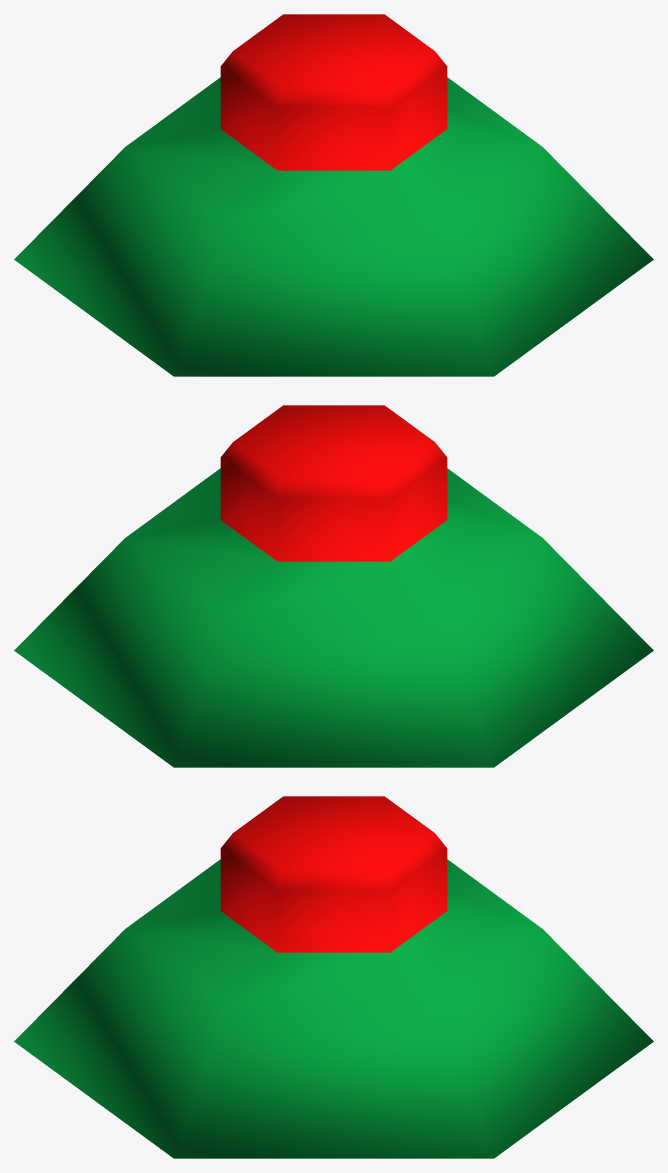
The model's file is LandMine.gltf.
3 renders of one model, top to bottom at view 1: azimuth 30°, elevation 25°; view 2: azimuth 150°, elevation 25°; view 3: azimuth 270°, elevation 25°, orthographic.
Parts seen in each view (by area): view 1: LandMine.001_glb; view 2: LandMine.001_glb; view 3: LandMine.001_glb.
Boxes of the visible parts, <box> form: LandMine.001_glb: <box>14,14,653,376</box>; LandMine.001_glb: <box>14,405,653,767</box>; LandMine.001_glb: <box>14,796,653,1158</box>.
Size of what is drawn, in the model's own units: 0.2207 by 0.0916 by 0.2549.
Materials: 1 (1 with a texture image).
